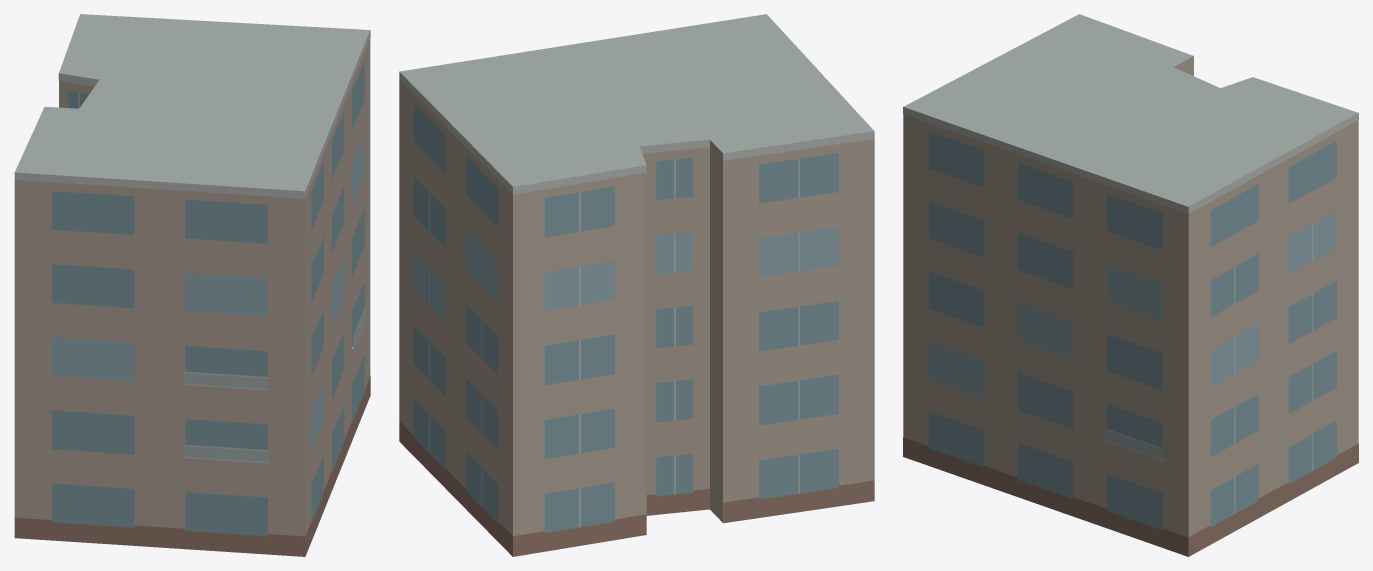
Rendered from survey-upis-32679170.glb.
The picture shows the model from 3 angles, left to right: view 1: azimuth 30°, elevation 25°; view 2: azimuth 150°, elevation 25°; view 3: azimuth 270°, elevation 25°; orthographic projection. The views are drawn at different scales.
Visible parts, largest first — view 1: survey-upis-32679170.tmp; view 2: survey-upis-32679170.tmp; view 3: survey-upis-32679170.tmp.
Boxes of the visible parts, x1,y1,x2,y2 form: survey-upis-32679170.tmp: (14, 14, 370, 556); survey-upis-32679170.tmp: (399, 14, 874, 556); survey-upis-32679170.tmp: (903, 14, 1358, 556).
Size of the model in its own units: 14.01 by 11.85 by 13.98.
